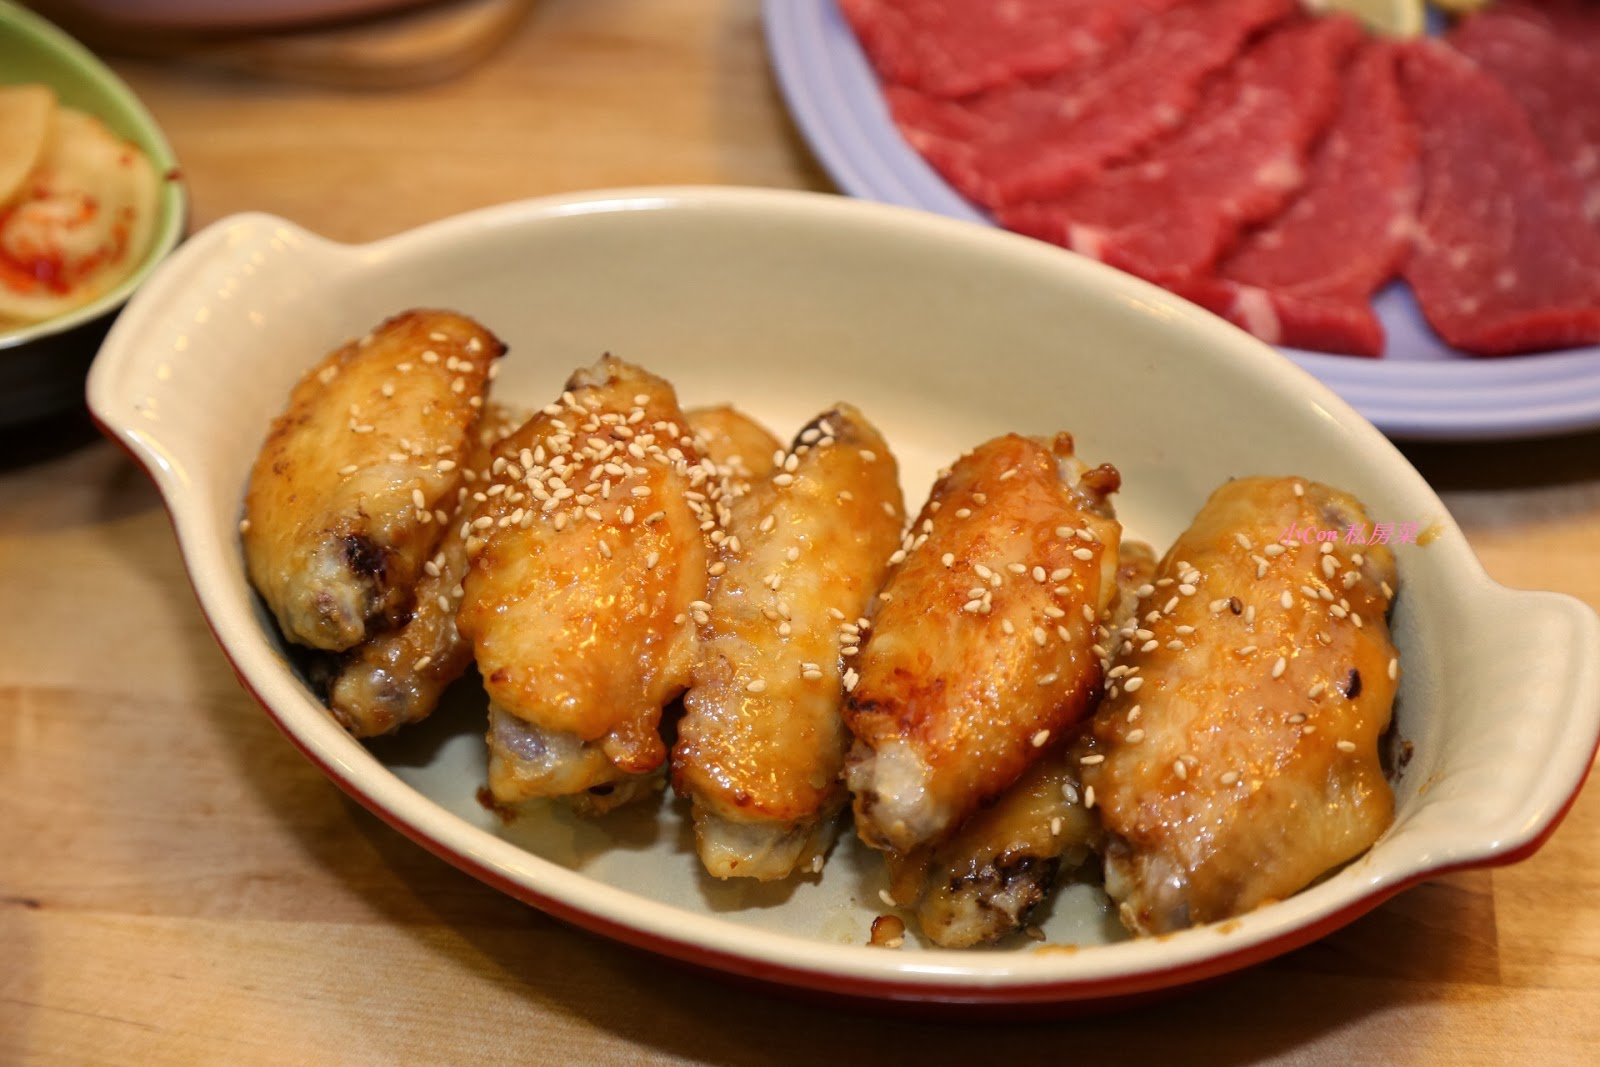chicken-wing: (246, 311, 1401, 944)
